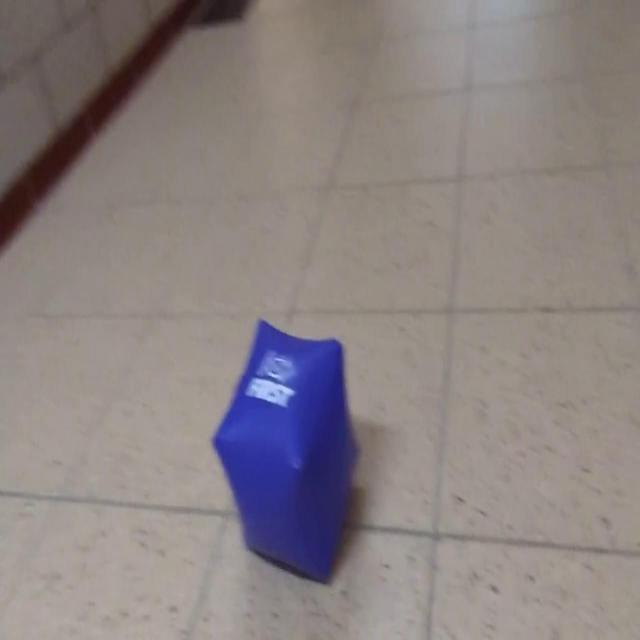frc_cube: (216, 324, 359, 582)
